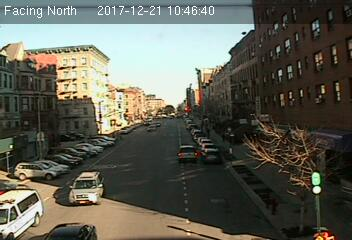car: (68, 170, 105, 205), (177, 144, 198, 162), (203, 146, 221, 165)
